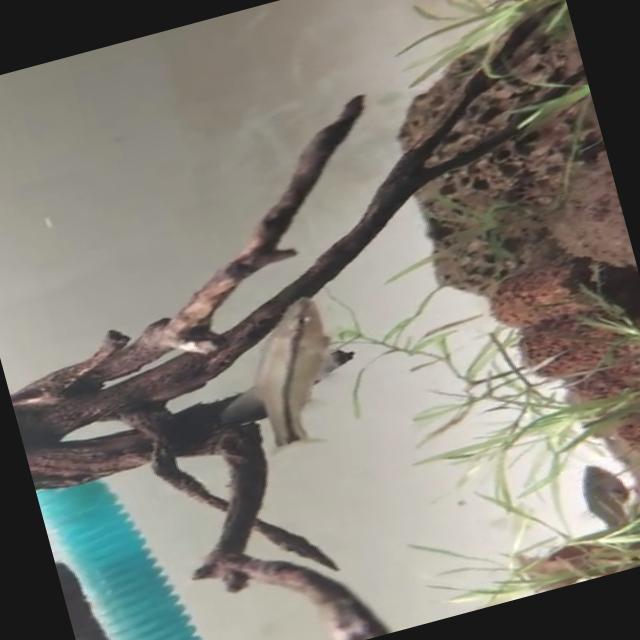Cakil Baligi: (192, 289, 374, 464)
